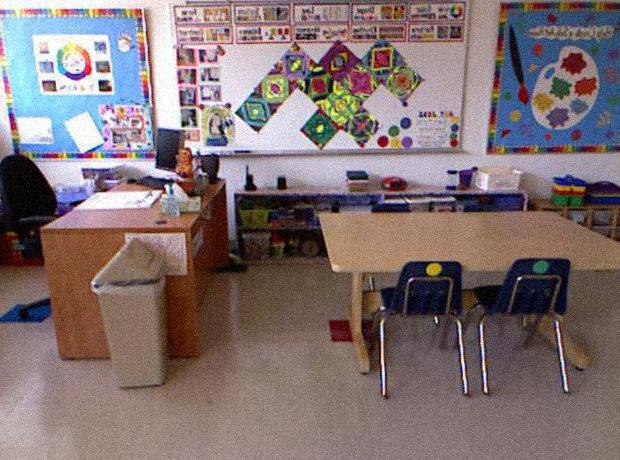Bote de Basura: (87, 238, 174, 402)
